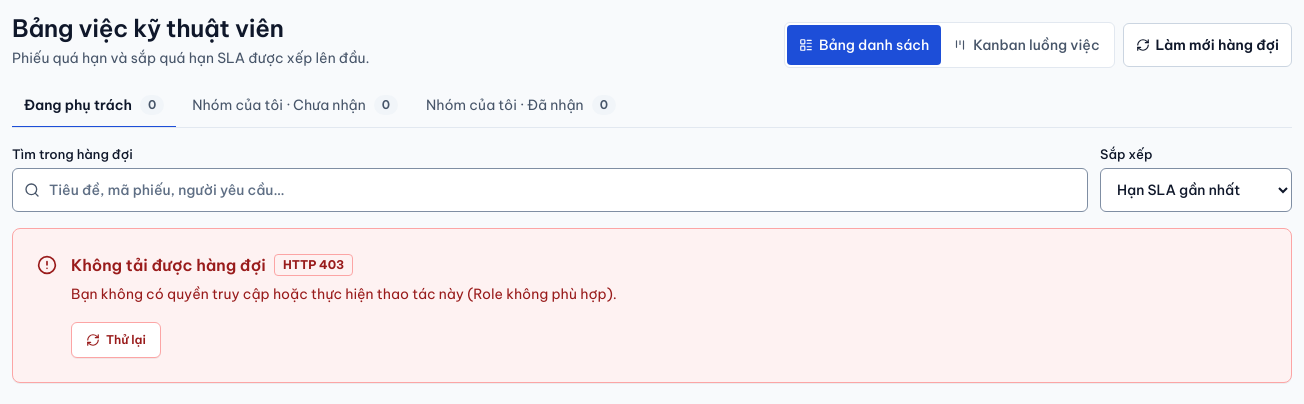
Test: server-side ticket queues › shows server errors with retry instead of retaining inaccessible records
Expected: the text "HTTP 403" is shown, [274, 254, 353, 276]
Expected: the button "Không kết nối được VPN" is not shown
Click the button "Thử lại" at (116, 340), box [71, 322, 161, 358]
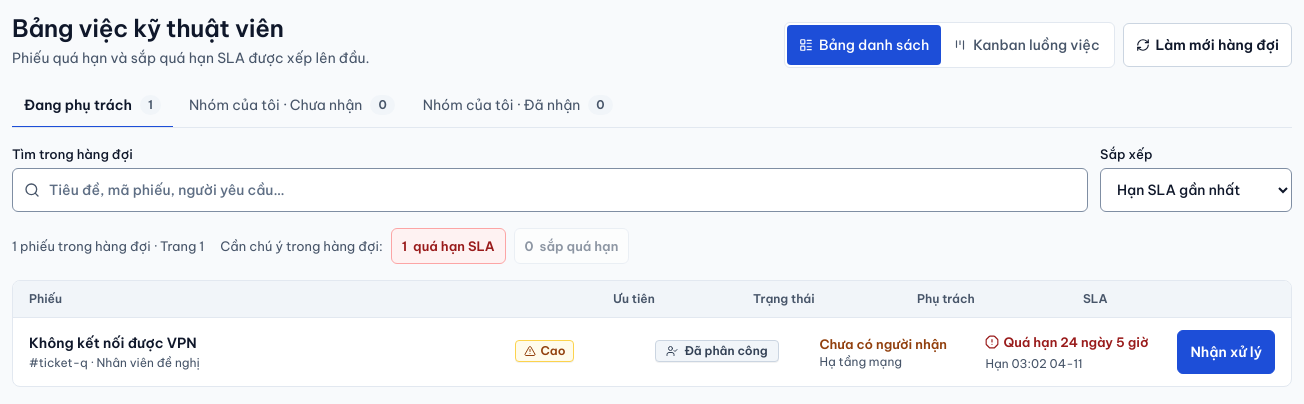
Now the button "Không kết nối được VPN" is shown, box [29, 333, 197, 353]
